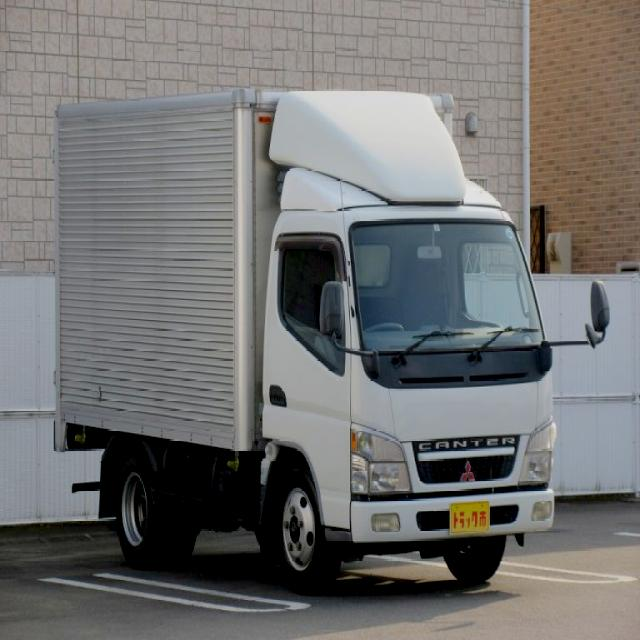truck: (52, 95, 609, 591)
